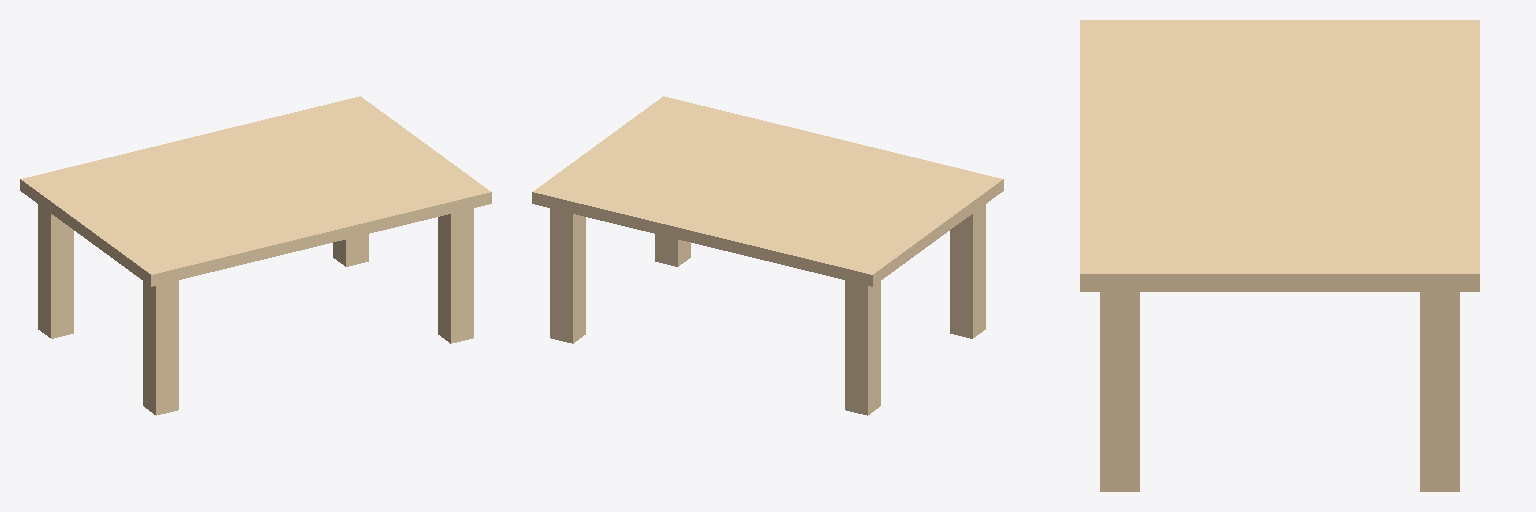
robot.urdf — table.urdf:
<?xml version="1.0" ?>
<robot name="table.urdf">

  <material name="WoodBrown">
    <color rgba="1.0 0.9 0.75 1.0"/>
  </material>

  <link name="baseLink">
    <contact>
      <lateral_friction value="1.0"/>
    </contact>

    <inertial>
      <origin rpy="0 0 0" xyz="0 0 0"/>
       <mass value=".0"/>
       <inertia ixx="1" ixy="0" ixz="0" iyy="1" iyz="0" izz="1"/>
    </inertial>

    <visual>
      <origin rpy="0 0 0" xyz="0 0 0.6"/>
      <geometry>
				<!-- <mesh filename="table.obj" scale="1.5 1 0.05"/> -->
        <box size="1.5 1 0.05"/>
      </geometry>
       <material name="WoodBrown"/>
    </visual>

    <collision>
      <origin rpy="0 0 0" xyz="0 0 0.6"/>
      <geometry>
    	 	<box size="1.5 1 0.05"/>
      </geometry>
    </collision>

	  <visual>
      <origin rpy="0 0 0" xyz="-0.65 -0.4 0.29"/>
      <geometry>
  	    <!-- <mesh filename="table.obj" scale="0.1 0.1 0.58"/> -->
        <box size="0.1 0.1 0.58"/>
      </geometry>
      <material name="WoodBrown"/>
    </visual>

    <visual>
      <origin rpy="0 0 0" xyz="-0.65 0.4 0.29"/>
      <geometry>
        <!-- <mesh filename="table.obj" scale="0.1 0.1 0.58"/> -->
        <box size="0.1 0.1 0.58"/>
      </geometry>
      <material name="WoodBrown"/>
	  </visual>

    <visual>
      <origin rpy="0 0 0" xyz="0.65 -0.4 0.29"/>
      <geometry>
        <!-- <mesh filename="table.obj" scale="0.1 0.1 0.58"/> -->
        <box size="0.1 0.1 0.58"/>
      </geometry>
      <material name="WoodBrown"/>
	  </visual>

    <visual>
      <origin rpy="0 0 0" xyz="0.65 0.4 0.29"/>
      <geometry>
        <!-- <mesh filename="table.obj" scale="0.1 0.1 0.58"/> -->
        <box size="0.1 0.1 0.58"/>
      </geometry>
      <material name="WoodBrown"/>
    </visual>

  </link>
</robot>

--- Render facts (derived) ---
The picture shows the robot from 3 angles, left to right: view 1: azimuth 30°, elevation 25°; view 2: azimuth 150°, elevation 25°; view 3: azimuth 270°, elevation 25°; orthographic projection.
Robot: table.urdf — 1 links, 0 joints (none); root link baseLink; default pose: all joints at 0.
Visible links, largest first — view 1: baseLink; view 2: baseLink; view 3: baseLink.
Link boxes in pixels (bbox=[...]): baseLink: bbox=[20, 96, 491, 415]; baseLink: bbox=[532, 96, 1003, 415]; baseLink: bbox=[1080, 20, 1479, 491].
Size in the robot's own frame: 1.5 by 1 by 0.625 metres.
Geometry: primitives only (box / cylinder / sphere), no mesh files.
